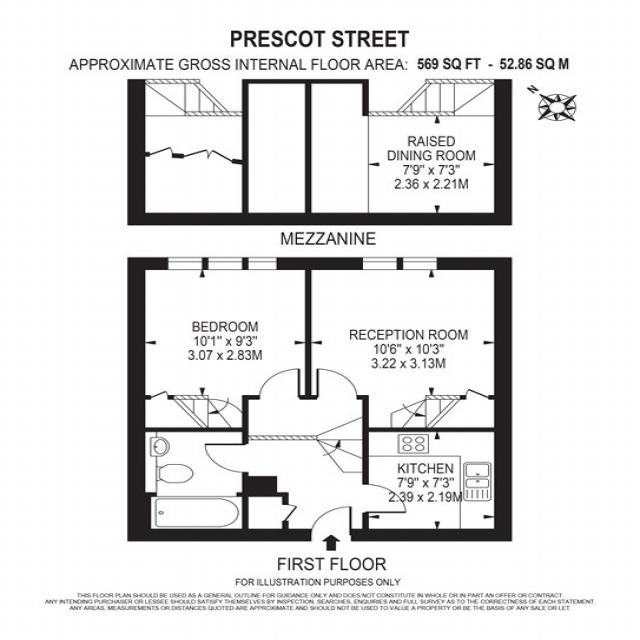DOOR: (309, 505, 354, 542), (257, 366, 303, 401), (361, 483, 409, 515), (203, 442, 250, 474), (314, 367, 359, 400)
ROOM: (304, 257, 512, 432), (126, 256, 312, 432), (305, 78, 514, 226), (361, 427, 513, 542)
WINDOW: (165, 256, 205, 271), (401, 256, 439, 271), (206, 256, 244, 271), (361, 256, 399, 270), (246, 256, 278, 271)
